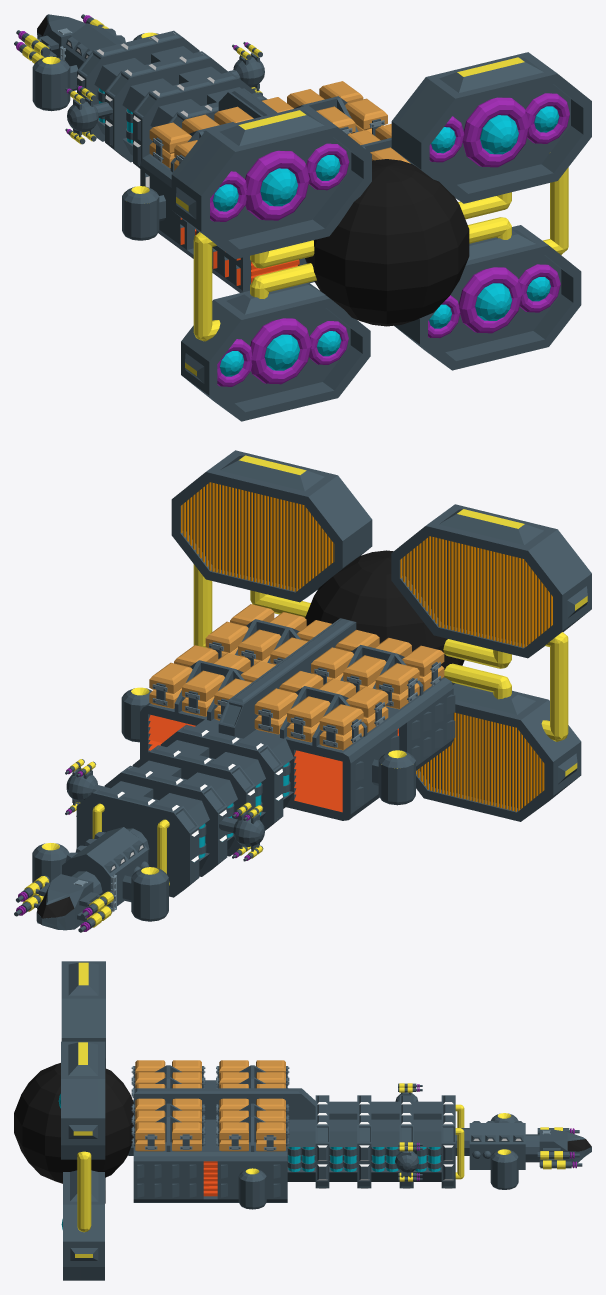
Rendered from Colored Freighter.compressed.glb.
The picture shows the model from 3 angles, top to bottom: view 1: azimuth 30°, elevation 25°; view 2: azimuth 150°, elevation 25°; view 3: azimuth 270°, elevation 25°; orthographic projection. The views are drawn at different scales.
Visible parts, largest first — view 1: group122676374; view 2: group122676374; view 3: group122676374.
Part boxes in pixels (x1,y1,x2,y2): group122676374: [14, 14, 591, 421]; group122676374: [14, 450, 591, 932]; group122676374: [14, 961, 591, 1280].
Bounding box in the file's own units: 2.18 × 1.51 × 3.65.
